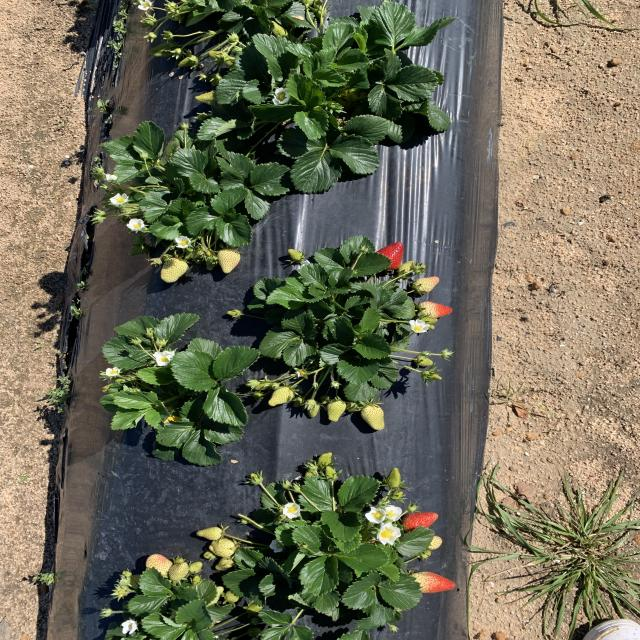unripe: (369, 241, 405, 270), (394, 512, 439, 534)
